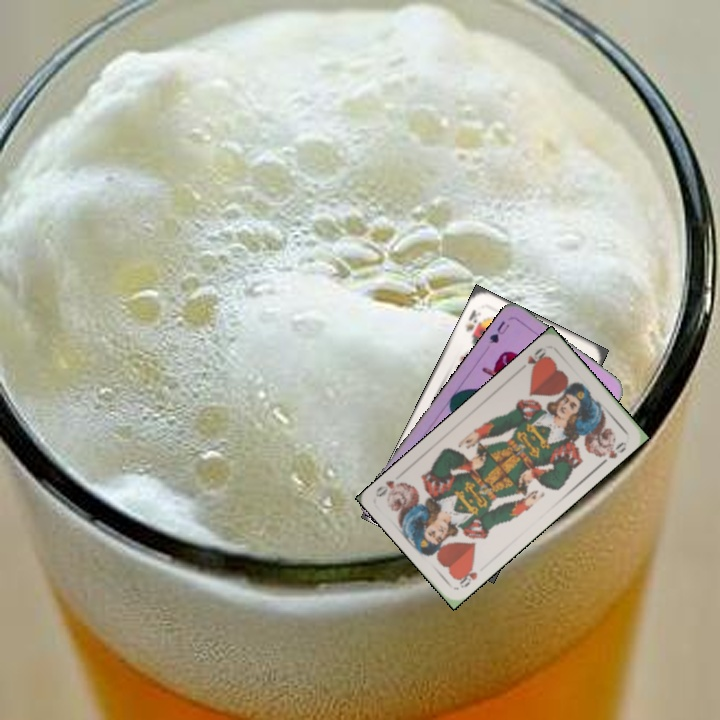GU: (485, 316, 512, 346)
HO: (515, 343, 550, 374), (453, 559, 480, 591)
SK: (461, 306, 482, 340)
